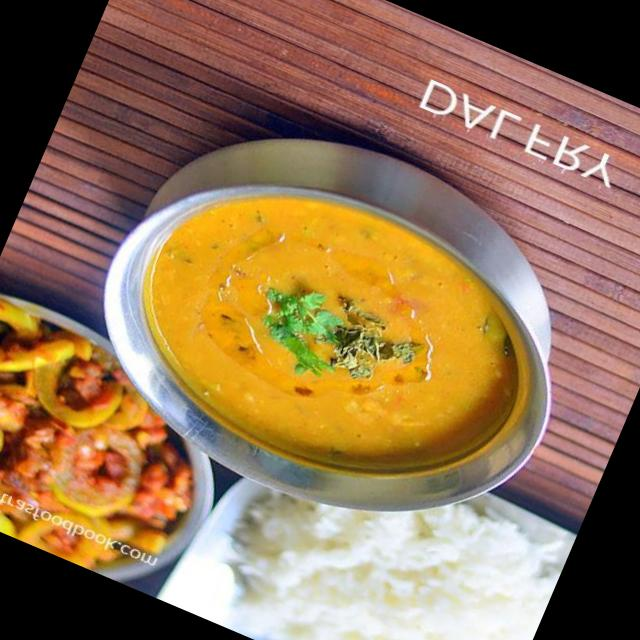dal: (107, 144, 560, 527)
rice: (193, 408, 576, 640)
